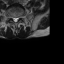CCS_normal: (14, 15, 16, 24)
LFS_stenosis: (18, 14, 20, 20)
LLS_normal: (16, 16, 18, 23)
RFS_stenosis: (10, 14, 12, 20)
RLS_normal: (12, 15, 14, 23)
